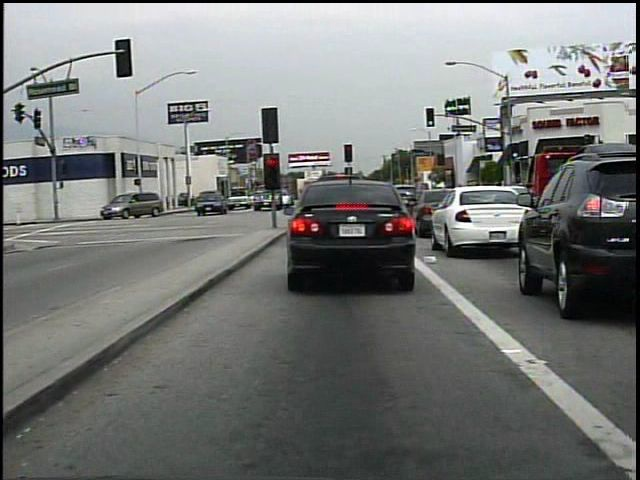person: (201, 185, 222, 211)
